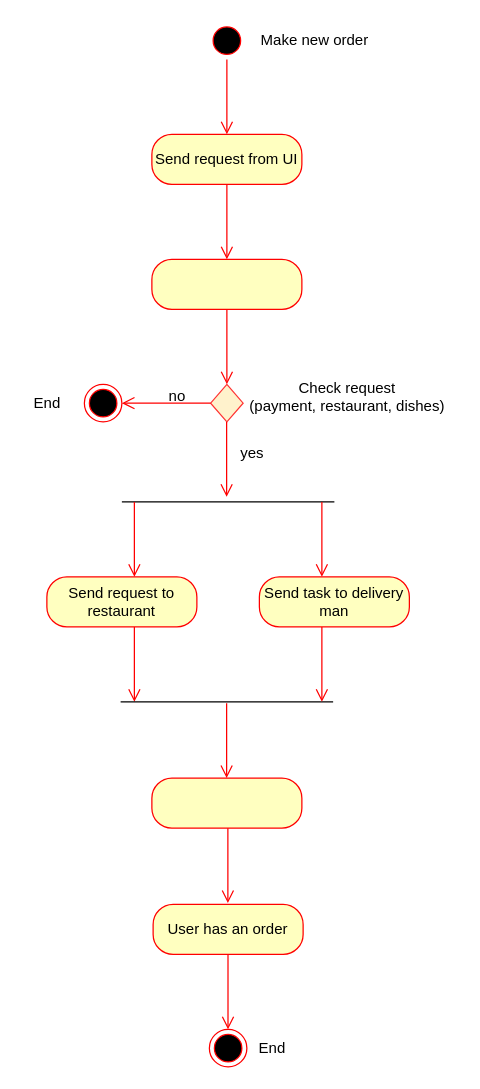
Image size: 480x1089. Some labels were removed from this diagram. Here are the shapes that lost their labels. From the top down, the centre of each, then its label:
(226,283): Proceed request
(226,802): Delivery man has an order
